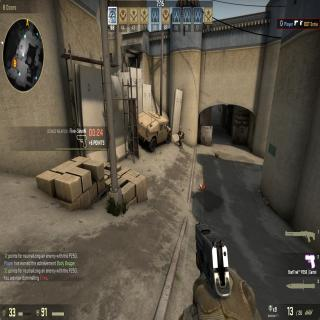CT-Body: (178, 129, 184, 149)
CT-Head: (179, 129, 182, 134)
